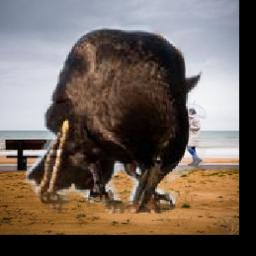Crow: (24, 26, 206, 215)
